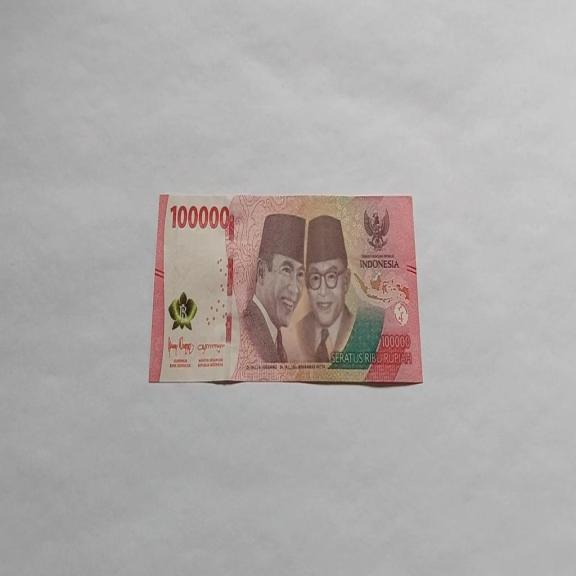Kertas: (148, 192, 424, 387), (170, 202, 230, 231)
